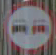No overtake: (2, 2, 54, 54)
